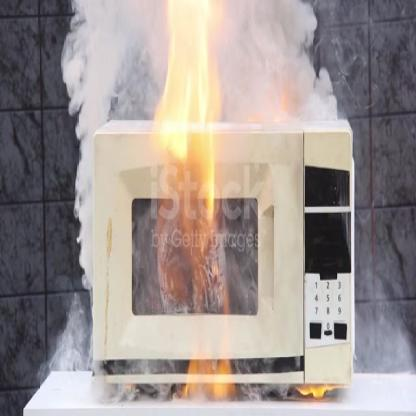fire: (148, 5, 236, 416)
smoke: (32, 0, 174, 409), (225, 0, 347, 130)
